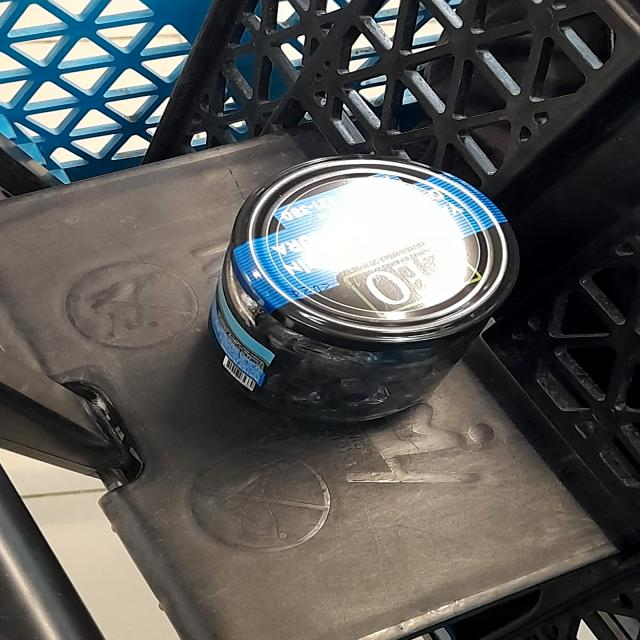olive: (208, 155, 529, 443)
